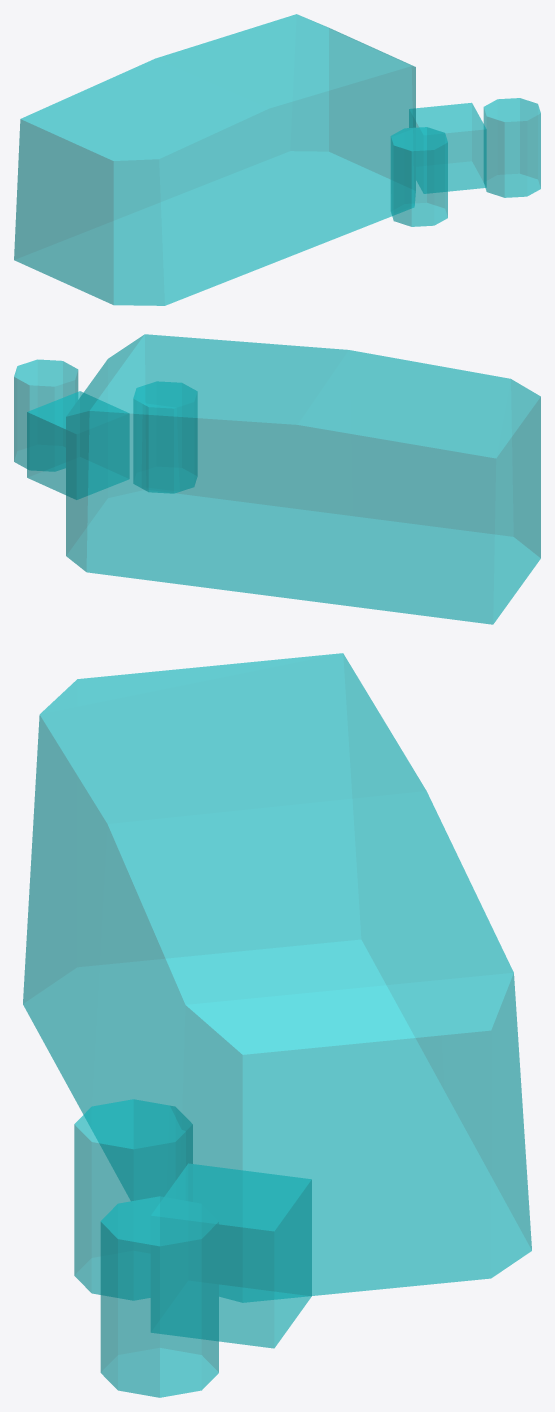
The model's file is SM_Obstacle_10_Collision.fbx.
3 views of the same model, one above another, from view 1: azimuth 30°, elevation 25°; view 2: azimuth 150°, elevation 25°; view 3: azimuth 270°, elevation 25° (orthographic). The views are drawn at different scales.
Parts seen in each view (by area): view 1: Obstacle_10_Collision; view 2: Obstacle_10_Collision; view 3: Obstacle_10_Collision.
Part boxes in pixels (x1=…): Obstacle_10_Collision: x1=14, y1=14, x2=540, y2=305; Obstacle_10_Collision: x1=14, y1=334, x2=540, y2=624; Obstacle_10_Collision: x1=23, y1=653, x2=531, y2=1397.
Bounding box in the file's own units: 712 × 217 × 332.
